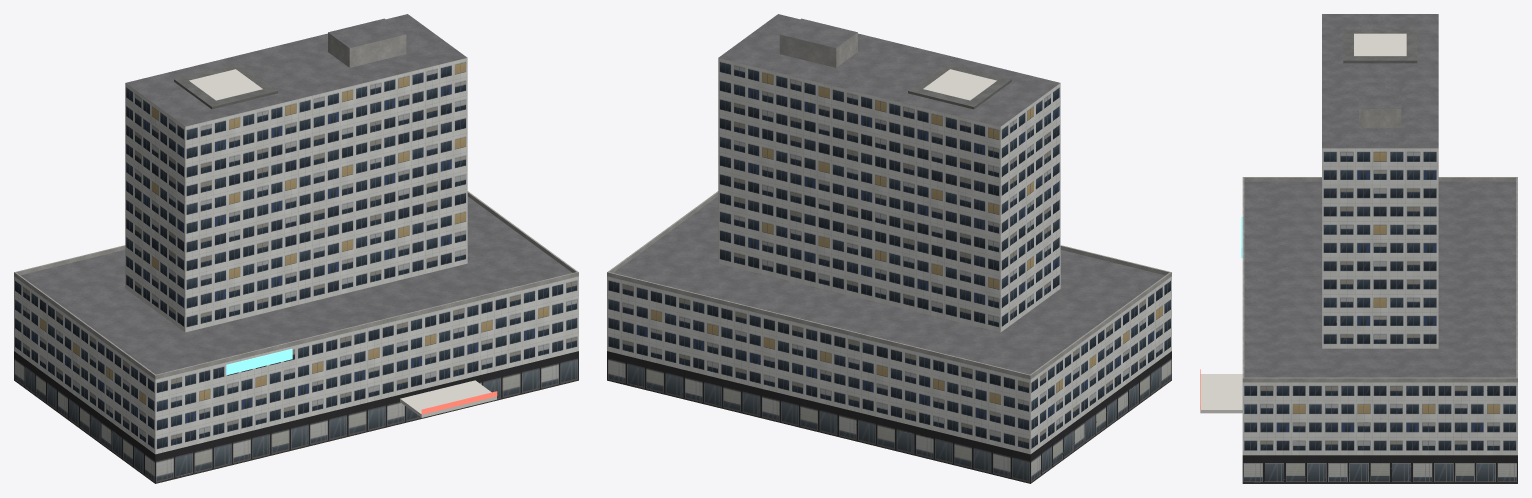
File: 079_hospital.glb
3 renders of one model, left to right at view 1: azimuth 30°, elevation 25°; view 2: azimuth 150°, elevation 25°; view 3: azimuth 270°, elevation 25°, orthographic. The views are drawn at different scales.
Parts seen in each view (by area): view 1: 079_hospital; view 2: 079_hospital; view 3: 079_hospital.
Boxes of the visible parts, x1,y1,x2,y2 form: 079_hospital: (14, 14, 578, 483); 079_hospital: (607, 14, 1171, 483); 079_hospital: (1200, 14, 1517, 483).
Bounding box in the file's own units: 90 × 67 × 60.05.
Materials: 8 (5 with a texture image).
